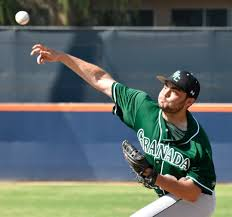baseball: (14, 9, 30, 25)
baseball player: (29, 42, 219, 217)
